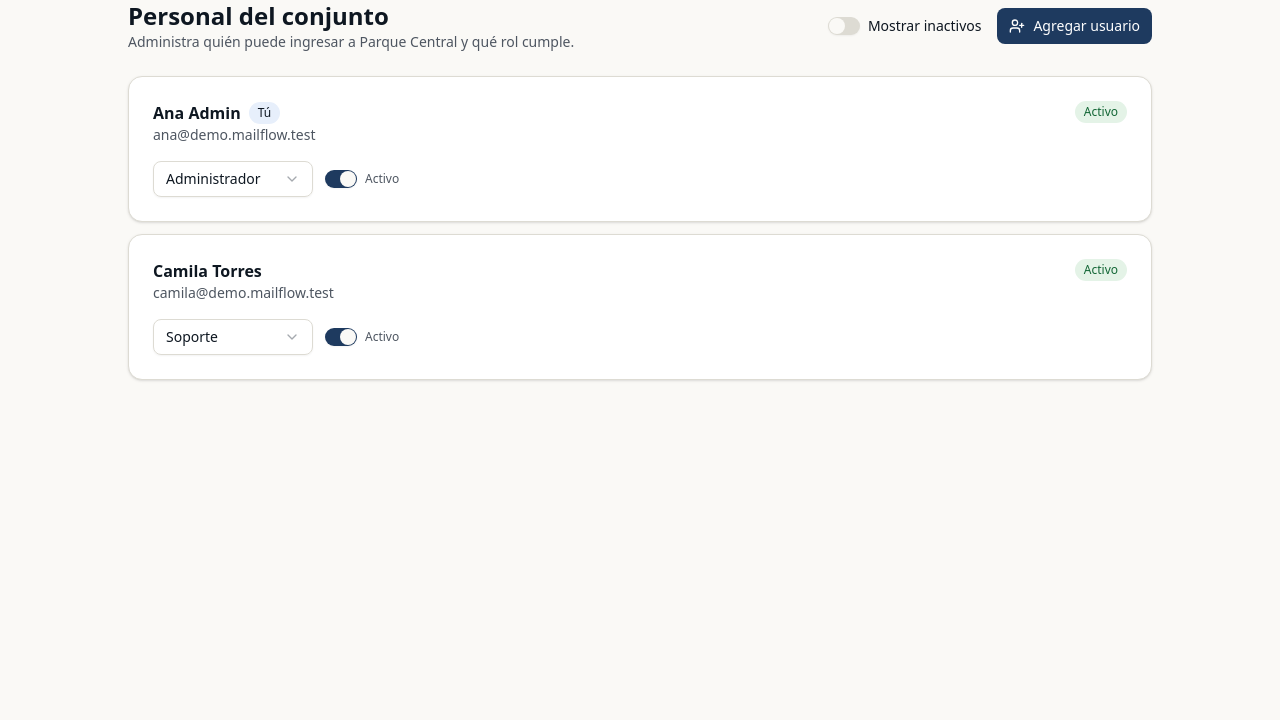
Scenario: UsuariosPage · Agregar usuario › camino feliz: agrega usuario, cierra diálogo, actualiza lista y muestra toast
Expected: the text "Camila Torres" is shown, [153,259,262,283]
Click the button "Agregar usuario" at (1075, 26), box [997,8,1152,44]
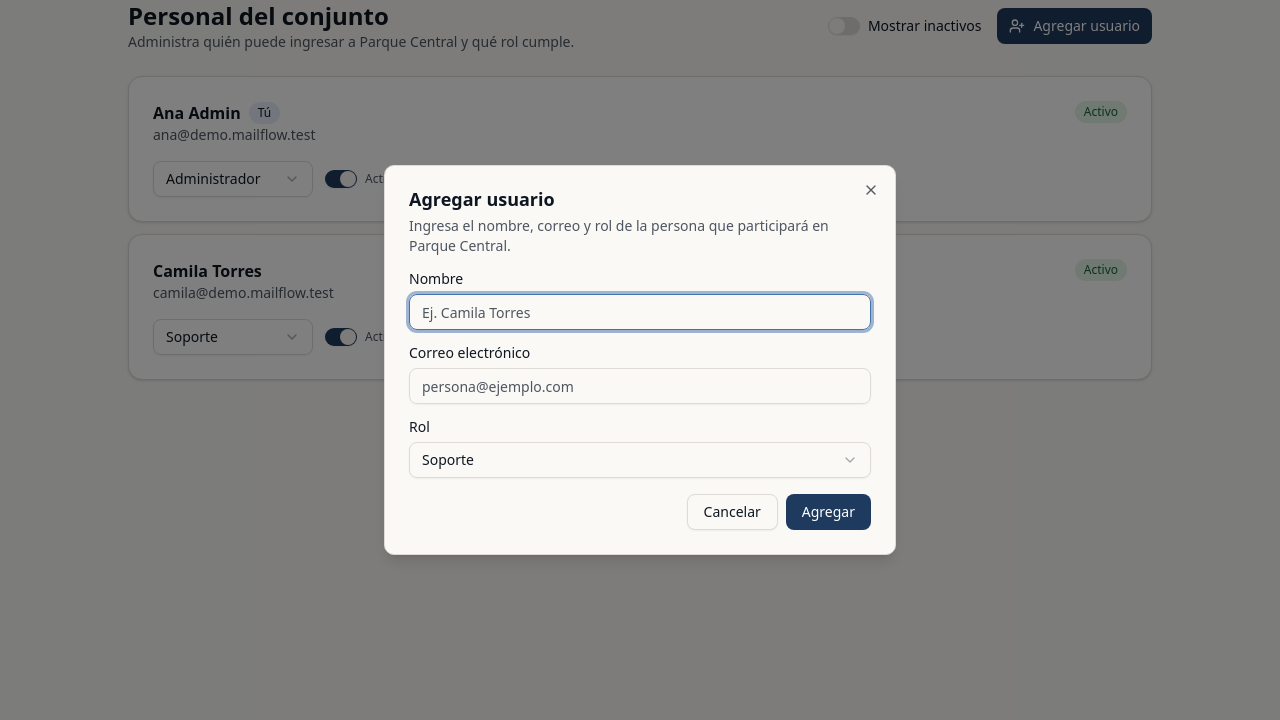
Type "Sofía Ramírez" into the field labelled "Nombre" at (640, 312), box [409,294,871,330]
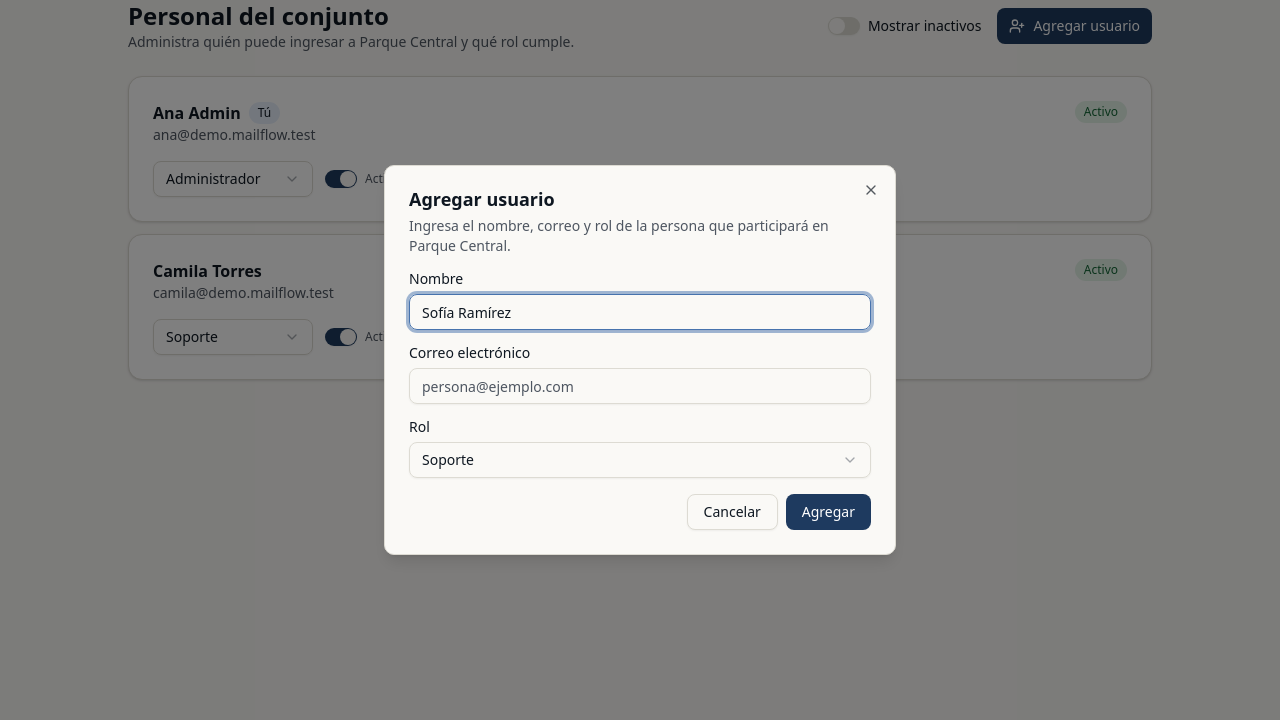
Type "sofia@demo.mailflow.test" into the field labelled "Correo electrónico" at (640, 386), box [409,368,871,404]
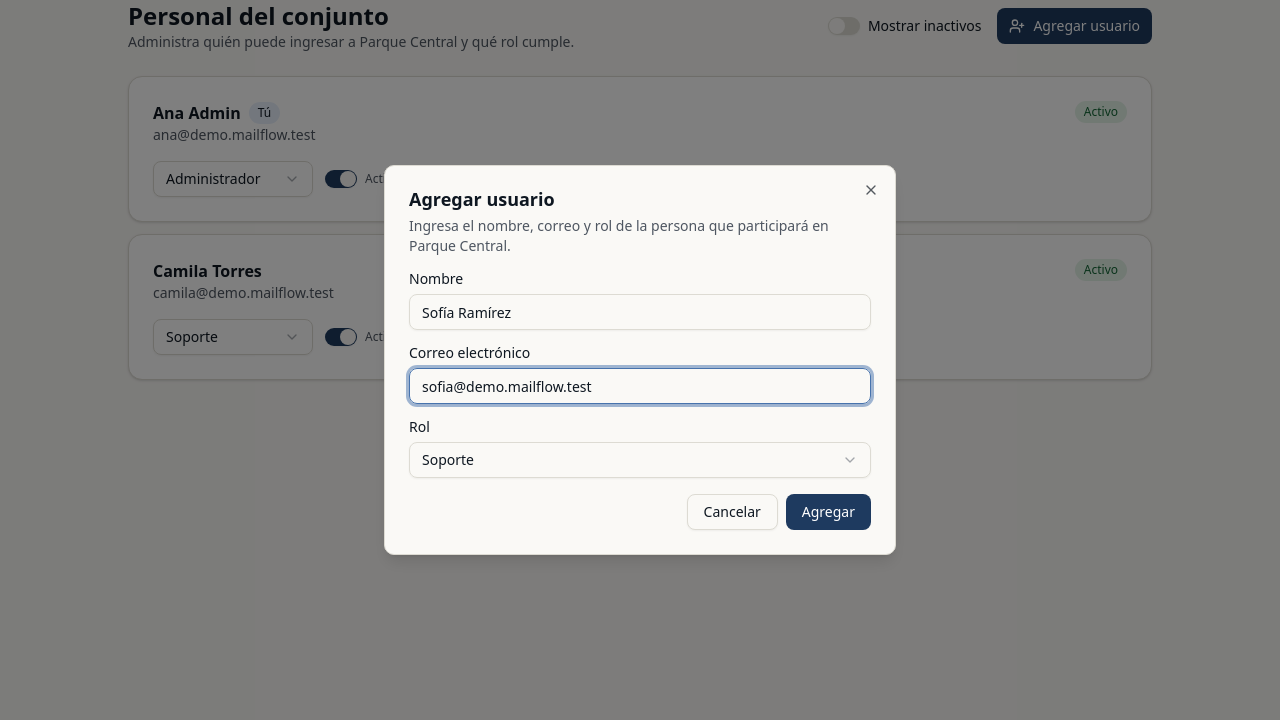
Click the button "Agregar" at (828, 512), box [786,494,871,530]
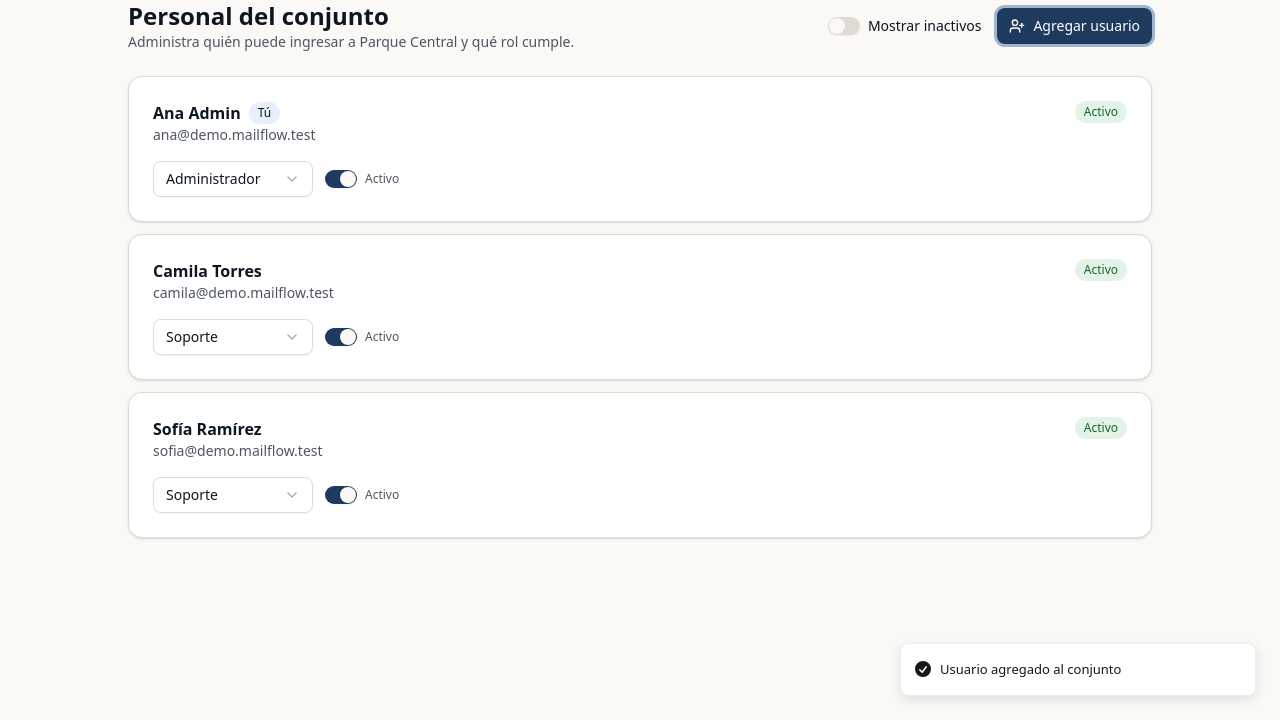
Now the dialog is gone
Now the text "Sofía Ramírez" is shown, box [153,417,262,441]
Now the text "Usuario agregado al conjunto" is shown, box [940,660,1121,679]
